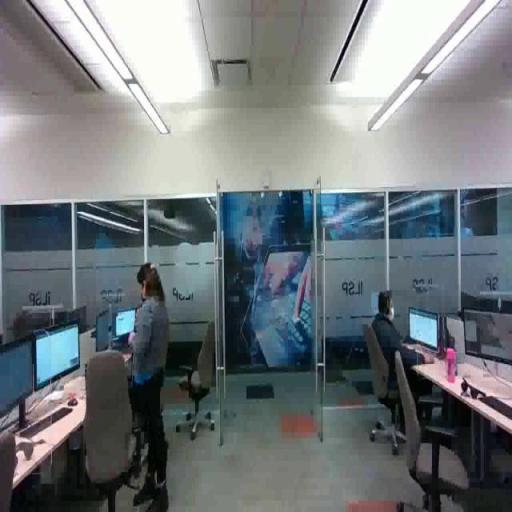person: (129, 257, 171, 512), (369, 282, 440, 414)
